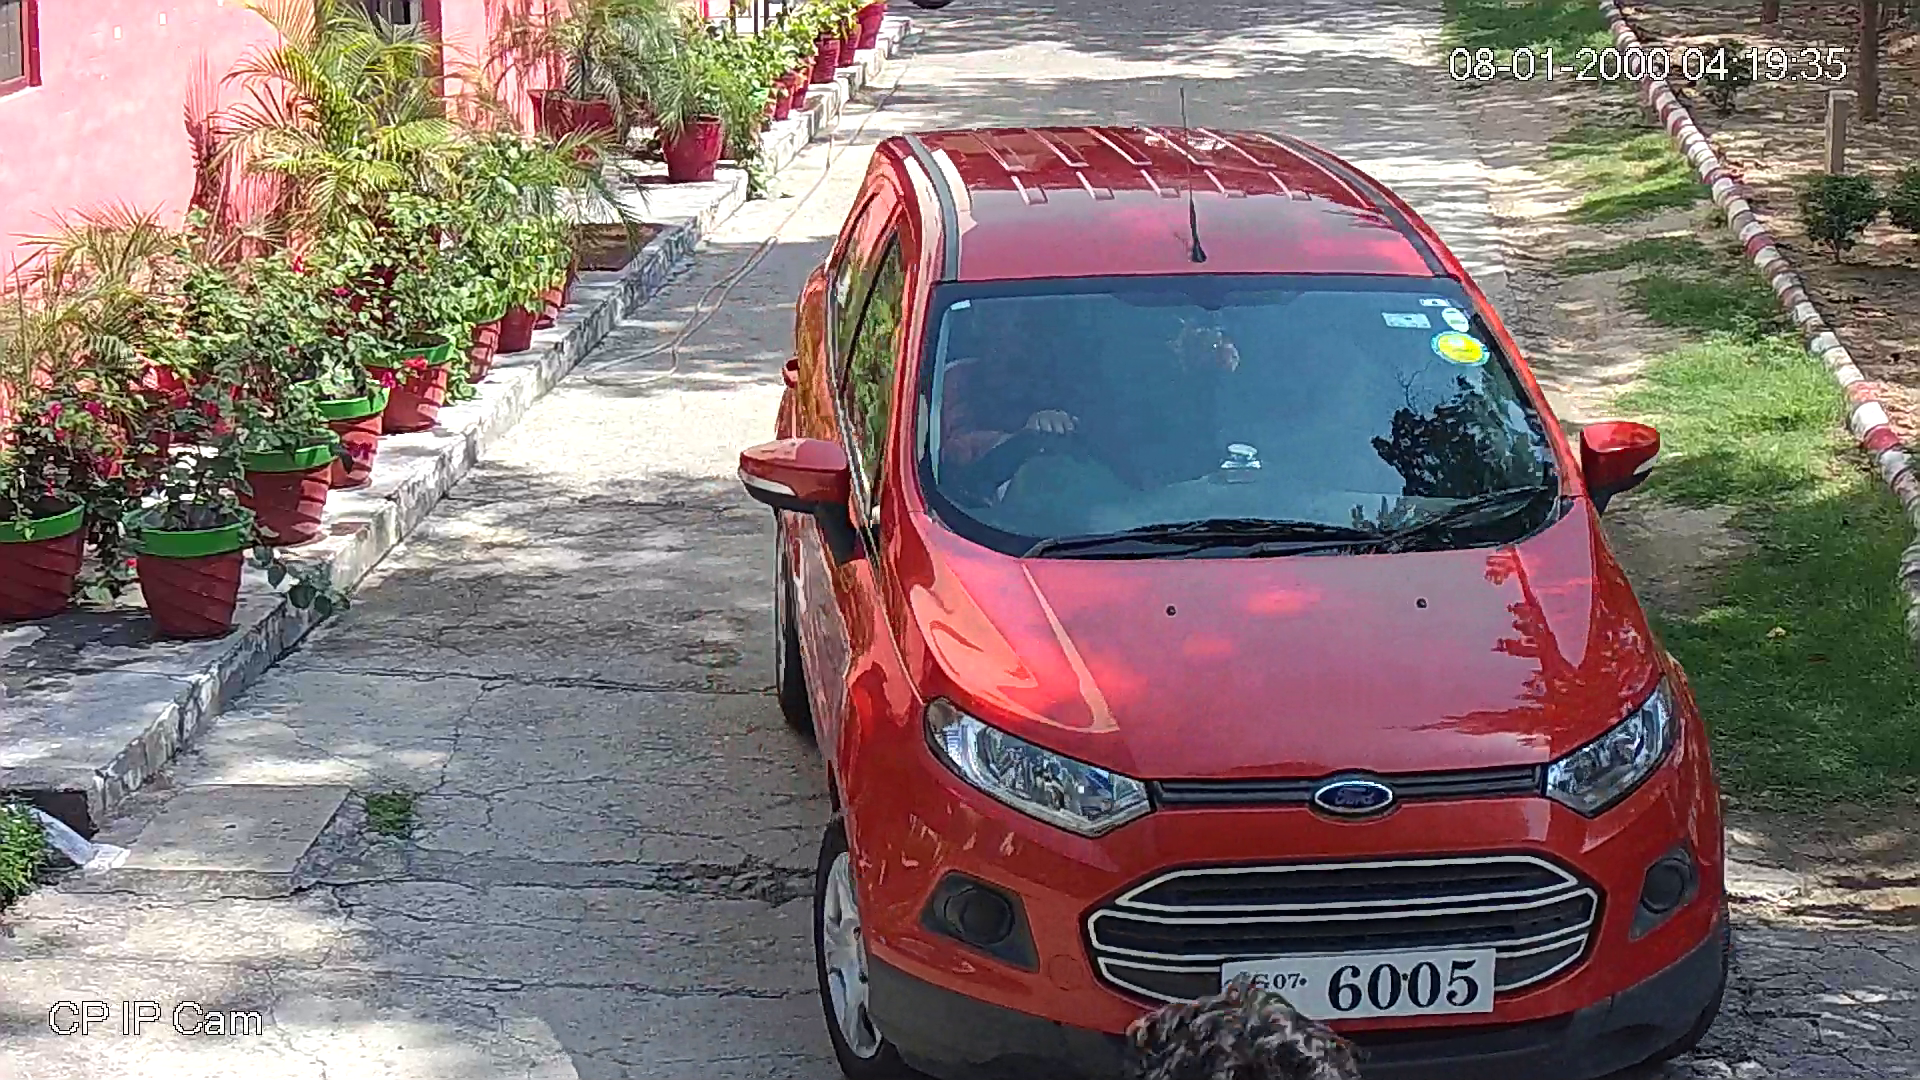plate: (1219, 943, 1507, 1020)
